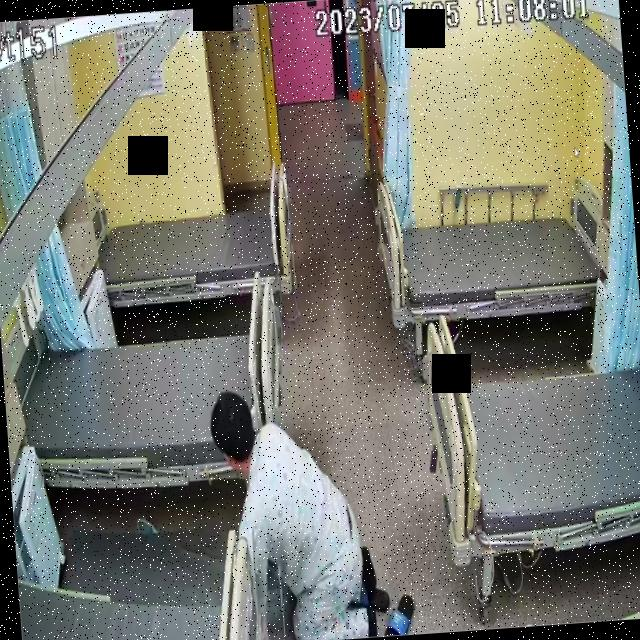bed: (420, 301, 640, 561), (15, 321, 288, 491), (374, 192, 616, 328), (97, 194, 292, 306)
fall: (208, 378, 390, 640)
patient: (204, 373, 388, 640)
